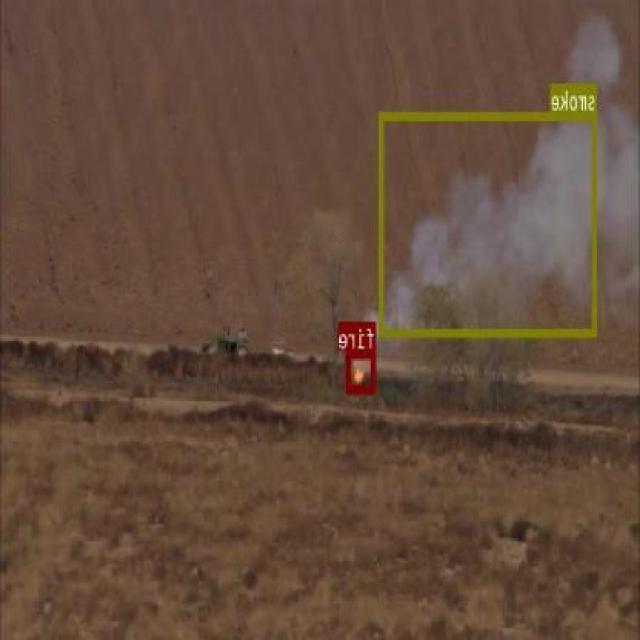Fire: (347, 348, 378, 392)
Smoke: (380, 112, 598, 334)
